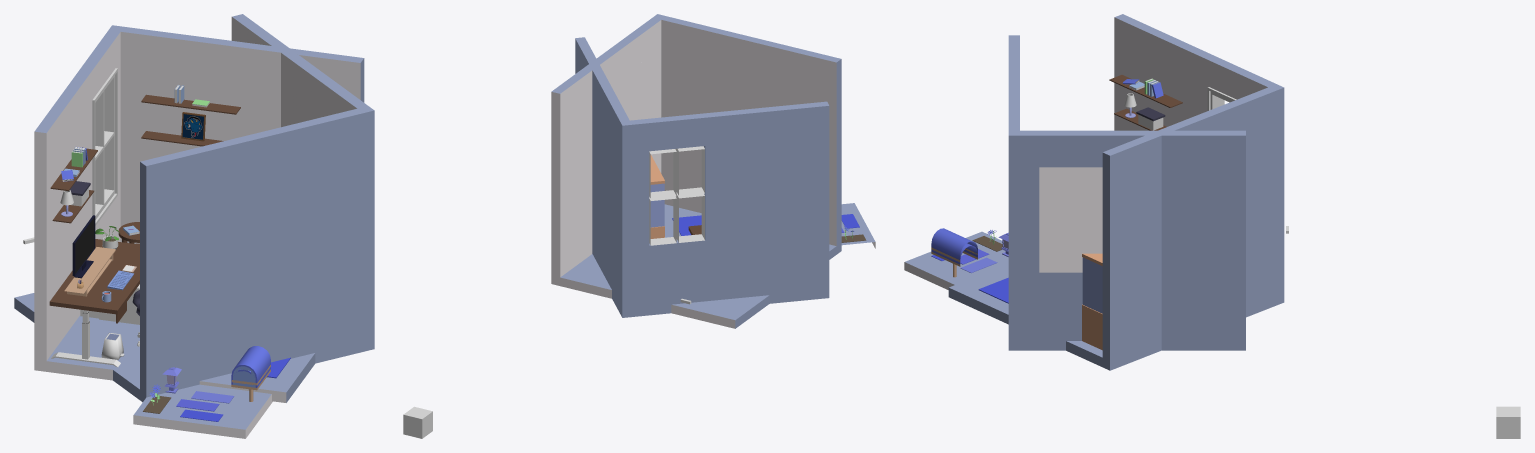
The model's file is Boko Tutorial.glb.
The picture shows the model from 3 angles, left to right: view 1: azimuth 30°, elevation 25°; view 2: azimuth 150°, elevation 25°; view 3: azimuth 270°, elevation 25°; orthographic projection. The views are drawn at different scales.
Parts seen in each view (by area): view 1: backup, Cube.001, Body, Shelves, Mini Floor, Table Top.001, Cube.070, Table Stuff, Desks, Mailbox, Computer, Plane.004 (+2 smaller); view 2: Body, backup, animcube, Aquarium, Cube, Mini Floor; view 3: backup, Body, Cube.001, animcube, animcube2, Aquarium, Mini Floor, Shelves, Mailbox, Cube.
Part boxes in pixels (x1,y1,x2,y2): backup: (14, 14, 374, 402); Cube.001: (41, 32, 361, 402); Body: (34, 25, 364, 402); Shelves: (50, 85, 240, 223); Mini Floor: (133, 384, 271, 429); Table Top.001: (49, 239, 139, 313); Cube.070: (133, 390, 272, 438); Table Stuff: (64, 225, 139, 302); Desks: (49, 222, 139, 367); Mailbox: (231, 346, 270, 401); Computer: (72, 215, 94, 277); Plane.004: (181, 114, 203, 140); Body: (575, 37, 829, 317); backup: (551, 14, 841, 328); animcube: (624, 54, 652, 118); Aquarium: (650, 154, 664, 238); Cube: (403, 406, 432, 438); Mini Floor: (841, 203, 875, 248); backup: (1008, 35, 1245, 350); Body: (948, 14, 1284, 370); Cube.001: (949, 17, 1267, 357); animcube: (1039, 167, 1102, 219); animcube2: (1039, 220, 1102, 272); Aquarium: (1082, 253, 1102, 350); Mini Floor: (905, 231, 1008, 284); Shelves: (1109, 75, 1182, 130); Mailbox: (931, 228, 977, 277); Cube: (1496, 406, 1520, 438).
Bounding box in the file's own units: 27.58 × 26.25 × 50.63.
Materials: 42 (1 with a texture image).
